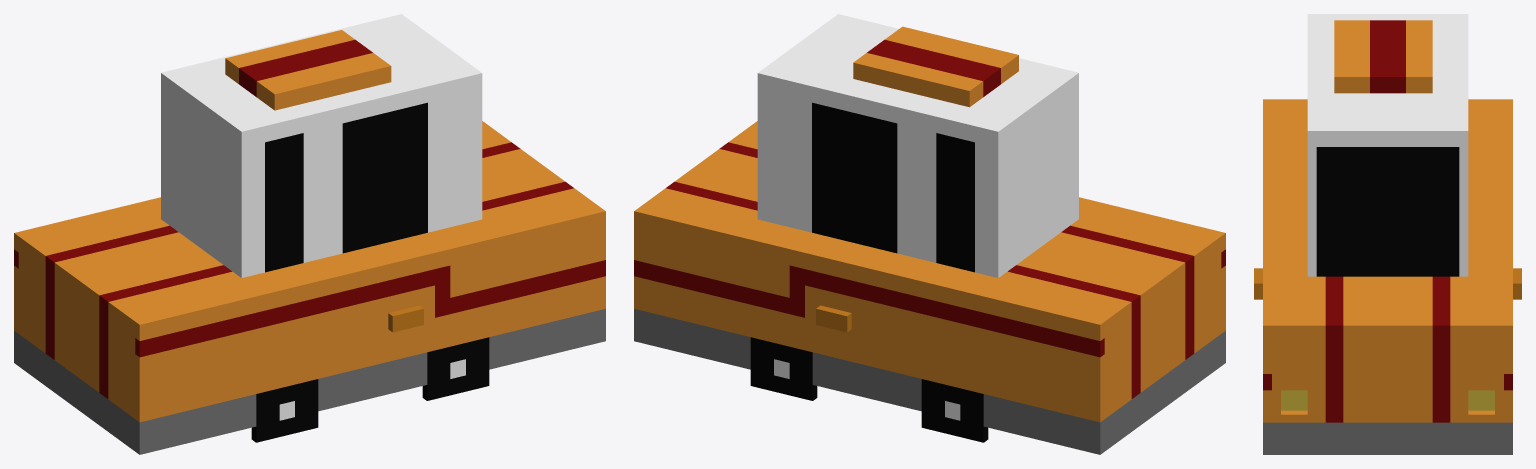
Rendered from coche_naranja.obj.
3 views of the same model, side by side, from view 1: azimuth 30°, elevation 25°; view 2: azimuth 150°, elevation 25°; view 3: azimuth 270°, elevation 25° (orthographic).
Size of the model in its own units: 60 by 38 by 30.
Materials: 1 (1 with a texture image).
